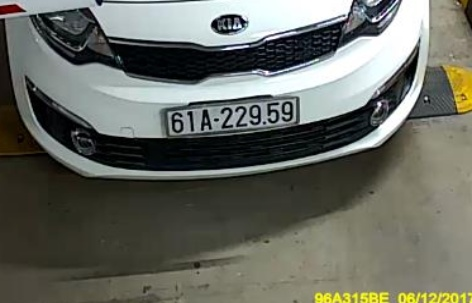plate: (161, 86, 301, 138)
